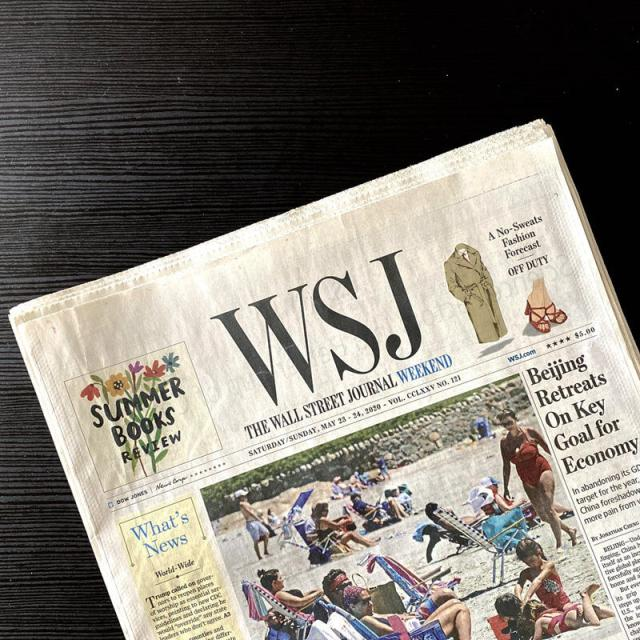newspaper: (19, 128, 640, 640)
